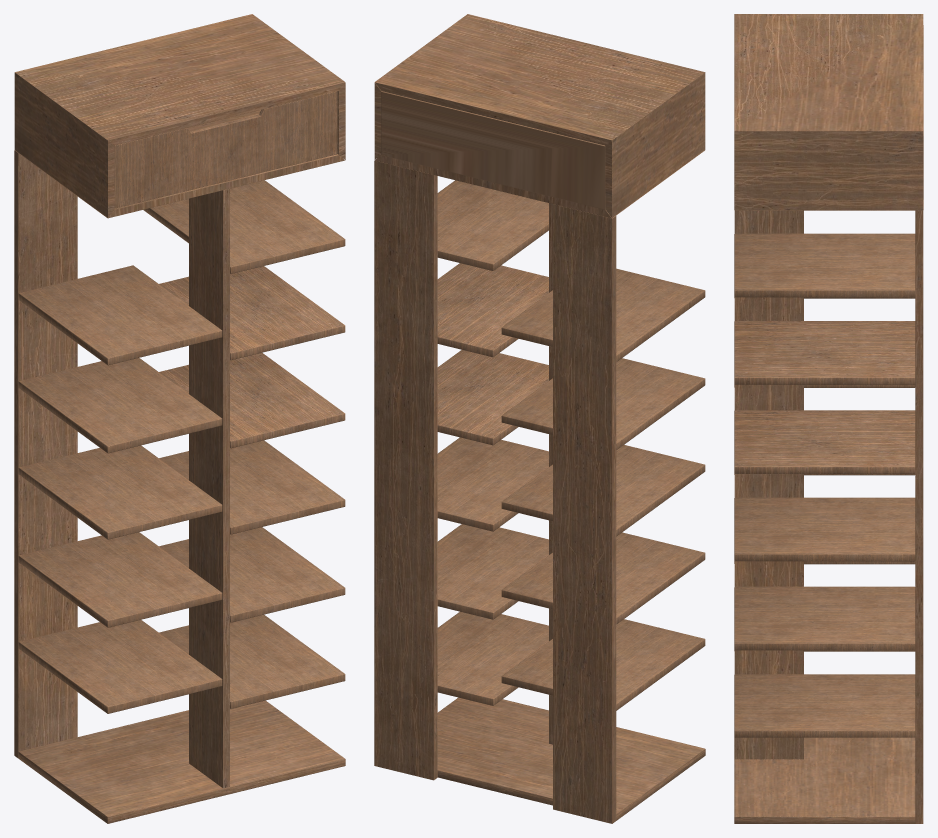
Rendered from cabinet_type_6.glb.
3 renders of one model, left to right at view 1: azimuth 30°, elevation 25°; view 2: azimuth 150°, elevation 25°; view 3: azimuth 270°, elevation 25°, orthographic.
Parts seen in each view (by area): view 1: Plane.001, Plane.004, Plane, Cube, Plane.015, Plane.009, Plane.013, Plane.007, Plane.011, Plane.014, Plane.003, Plane.005 (+6 smaller); view 2: Plane.001, Plane.004, Plane.002, Plane, Plane.003, Plane.014, Plane.010, Plane.005, Plane.016, Plane.012, Plane.008, Plane.015 (+4 smaller); view 3: Plane.004, Plane.001, Plane.006, Plane, Plane.005, Plane.012, Plane.014, Plane.008, Plane.010, Plane.016, Plane.013, Plane.009 (+1 smaller).
Part boxes in pixels (x1,y1,x2,y2): Plane.001: [14, 150, 229, 788]; Plane.004: [15, 14, 345, 145]; Plane: [18, 700, 345, 823]; Cube: [114, 91, 337, 208]; Plane.015: [18, 265, 222, 365]; Plane.009: [18, 532, 222, 627]; Plane.013: [18, 358, 222, 453]; Plane.007: [18, 620, 222, 713]; Plane.011: [18, 445, 222, 539]; Plane.014: [143, 180, 345, 273]; Plane.003: [14, 72, 114, 217]; Plane.005: [159, 527, 345, 622]; Plane.001: [374, 160, 616, 823]; Plane.004: [375, 14, 705, 145]; Plane.002: [375, 91, 704, 218]; Plane: [437, 697, 705, 820]; Plane.003: [605, 73, 705, 217]; Plane.014: [437, 180, 548, 270]; Plane.010: [437, 350, 548, 445]; Plane.005: [437, 524, 548, 619]; Plane.016: [437, 263, 548, 357]; Plane.012: [437, 437, 548, 531]; Plane.008: [437, 611, 548, 705]; Plane.015: [501, 268, 705, 361]; Plane.004: [734, 14, 923, 131]; Plane.001: [734, 210, 923, 823]; Plane.006: [734, 131, 923, 210]; Plane: [734, 737, 915, 823]; Plane.005: [734, 586, 915, 650]; Plane.012: [734, 497, 915, 561]; Plane.014: [734, 233, 915, 297]; Plane.008: [734, 674, 915, 737]; Plane.010: [734, 410, 915, 473]; Plane.016: [734, 321, 915, 384]; Plane.013: [734, 384, 915, 387]; Plane.009: [734, 561, 915, 564].
Size of the model in its own units: 0.6192 by 1.7 by 0.4208.
Materials: 2 (2 with a texture image).
